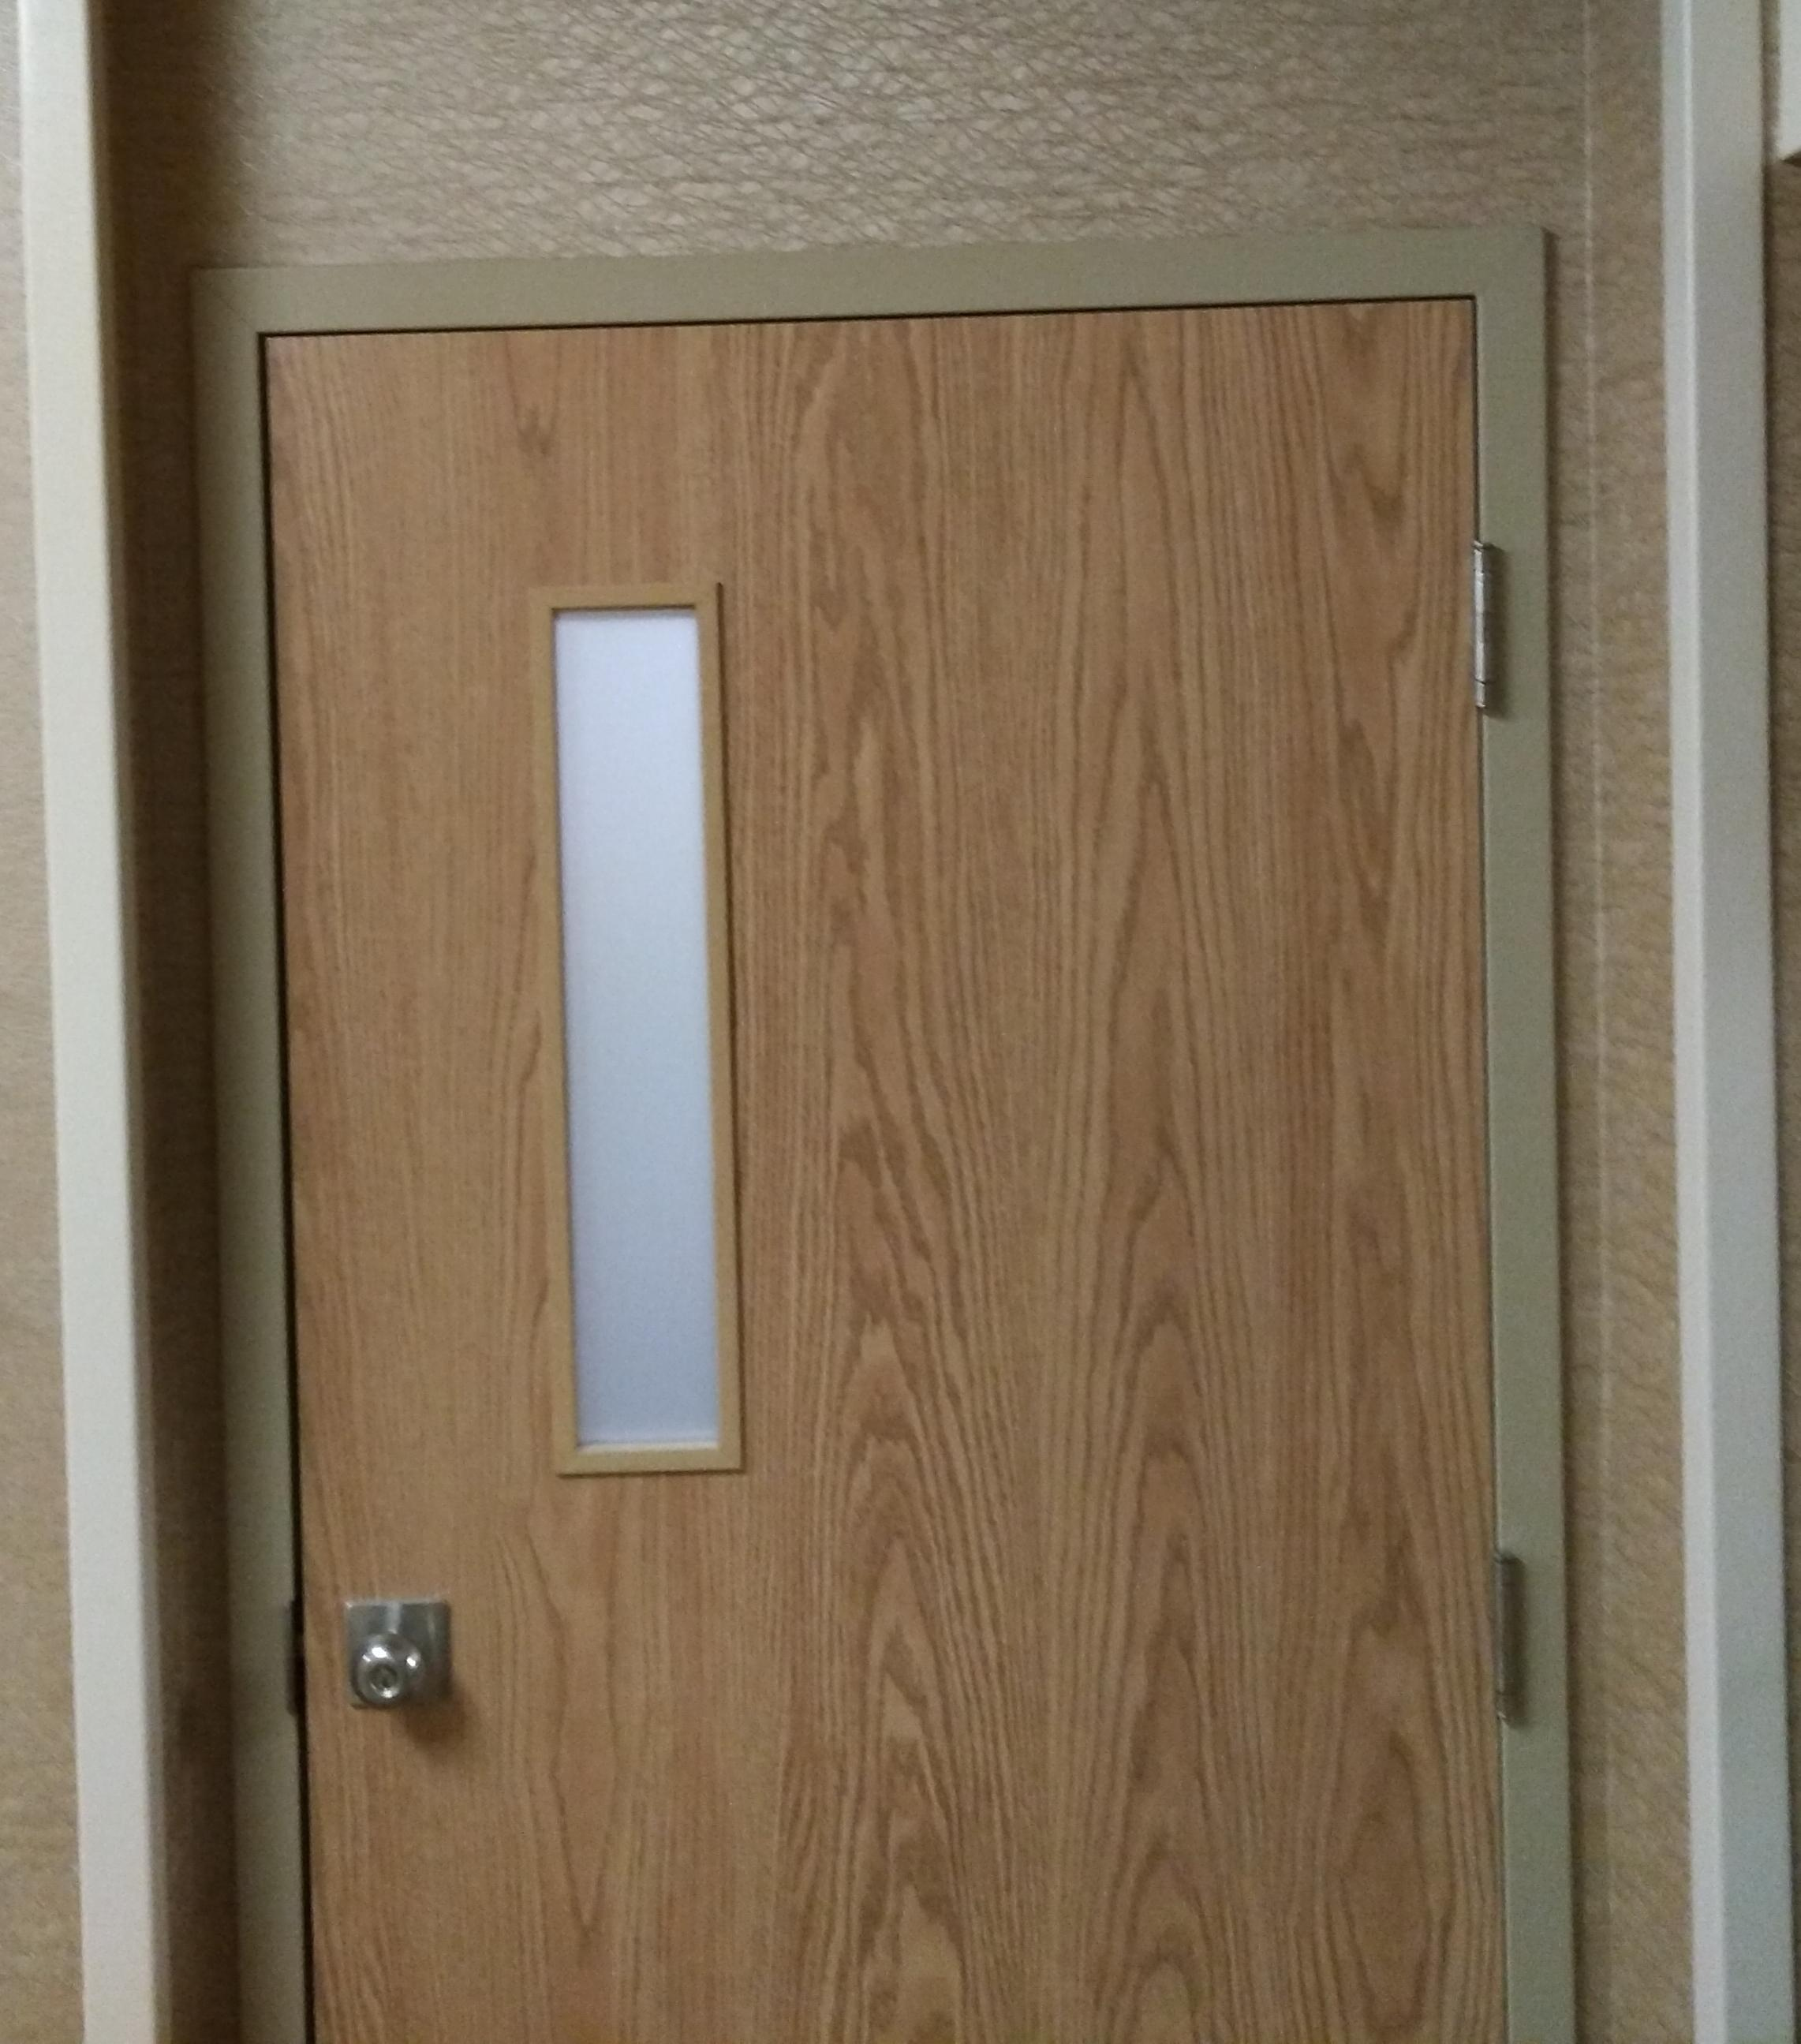door: (273, 337, 1488, 2044)
handle: (342, 1613, 449, 1749)
